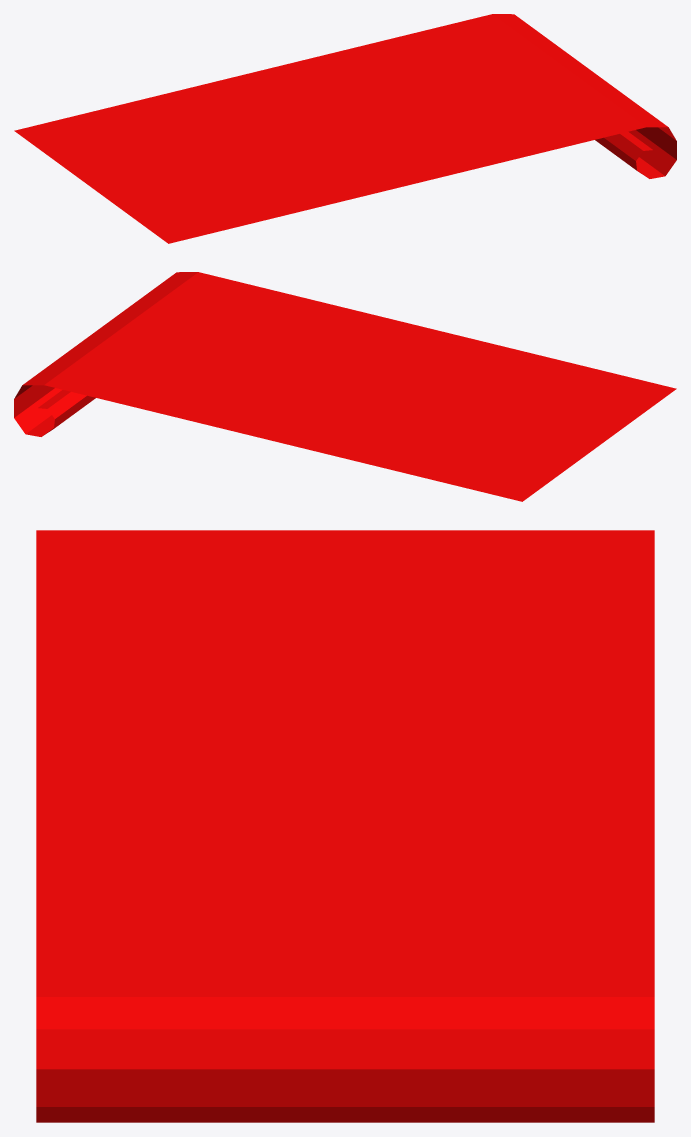
The model's file is platform_1.FBX.
3 renders of one model, top to bottom at view 1: azimuth 30°, elevation 25°; view 2: azimuth 150°, elevation 25°; view 3: azimuth 270°, elevation 25°, orthographic. The views are drawn at different scales.
Visible parts, largest first — view 1: platform_1_inside, platform__1_outiside; view 2: platform_1_inside, platform__1_outiside; view 3: platform_1_inside, platform__1_outiside.
Boxes of the visible parts, x1=… form: platform_1_inside: x1=14, y1=14, x2=676, y2=243; platform__1_outiside: x1=17, y1=14, x2=676, y2=238; platform_1_inside: x1=14, y1=272, x2=676, y2=501; platform__1_outiside: x1=14, y1=272, x2=674, y2=499; platform_1_inside: x1=36, y1=530, x2=654, y2=1122; platform__1_outiside: x1=36, y1=530, x2=654, y2=1122.
Size of the model in its own units: 2039 by 1074 by 206.
